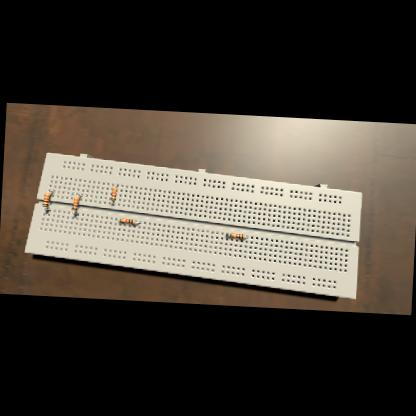breadboard: (21, 150, 360, 298)
resistor: (40, 193, 50, 206), (70, 196, 78, 210), (109, 186, 116, 200), (228, 232, 243, 238), (119, 216, 134, 222)
wire: (72, 210, 78, 214), (43, 206, 49, 209), (110, 200, 113, 204), (76, 194, 82, 196), (46, 190, 52, 192), (225, 232, 228, 234), (114, 184, 116, 186), (244, 235, 245, 236)
